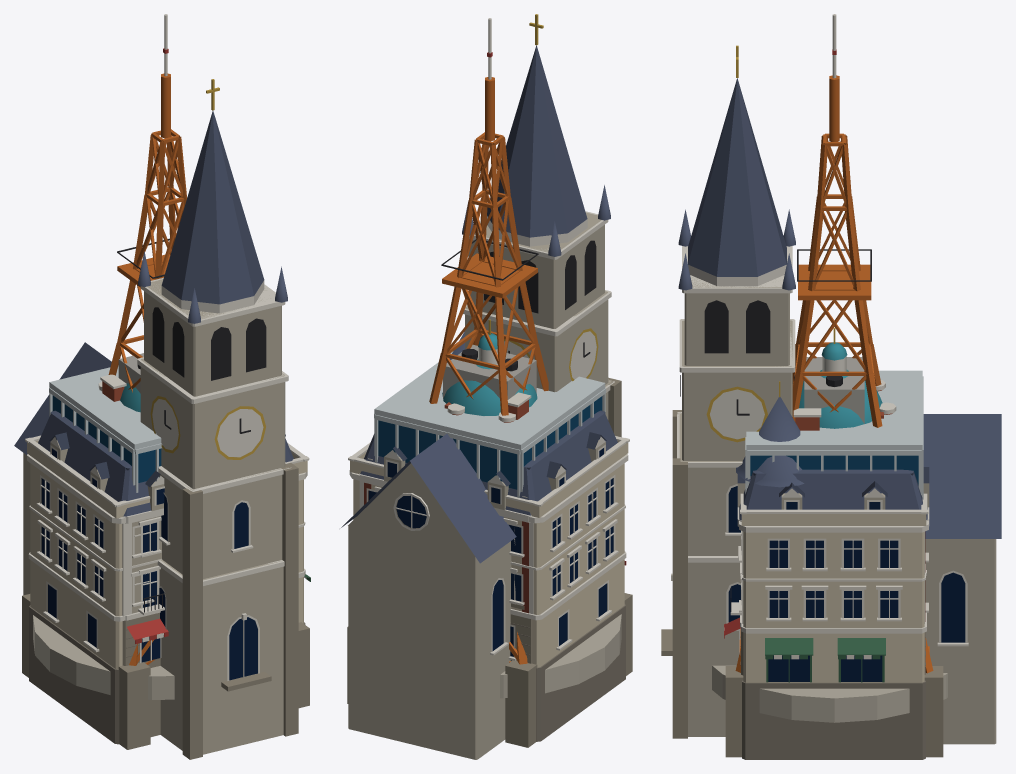
File: town-kit.glb
3 views of the same model, side by side, from view 1: azimuth 30°, elevation 25°; view 2: azimuth 150°, elevation 25°; view 3: azimuth 270°, elevation 25° (orthographic). The views are drawn at different scales.
Visible parts, largest first — view 1: Kit_ClockTower, Kit_FlatBlock, Kit_LatticeTower, Kit_SlateBlock, Kit_GlassBlock, Kit_Fountain; view 2: Kit_ClockTower, Kit_FlatBlock, Kit_LatticeTower, Kit_GlassBlock, Kit_SlateBlock, Kit_Fountain, Kit_DomeTower, Kit_BrickWorks; view 3: Kit_ClockTower, Kit_FlatBlock, Kit_LatticeTower, Kit_GlassBlock, Kit_SlateBlock, Kit_Fountain, Kit_TurretCorner, Kit_DomeTower.
Boxes of the visible parts, x1,y1,x2,y2 form: Kit_ClockTower: [14, 79, 298, 759]; Kit_FlatBlock: [25, 435, 310, 744]; Kit_LatticeTower: [22, 14, 309, 749]; Kit_SlateBlock: [38, 374, 298, 736]; Kit_GlassBlock: [49, 353, 162, 492]; Kit_Fountain: [33, 615, 174, 699]; Kit_ClockTower: [341, 14, 621, 759]; Kit_FlatBlock: [348, 436, 629, 741]; Kit_LatticeTower: [347, 18, 632, 747]; Kit_GlassBlock: [374, 344, 605, 497]; Kit_SlateBlock: [359, 392, 617, 663]; Kit_Fountain: [500, 614, 621, 698]; Kit_DomeTower: [442, 319, 537, 415]; Kit_BrickWorks: [364, 458, 528, 613]; Kit_ClockTower: [661, 45, 1001, 744]; Kit_FlatBlock: [724, 493, 928, 759]; Kit_LatticeTower: [725, 14, 943, 757]; Kit_GlassBlock: [745, 357, 923, 499]; Kit_SlateBlock: [730, 408, 929, 675]; Kit_Fountain: [712, 665, 947, 722]; Kit_TurretCorner: [736, 380, 896, 487]; Kit_DomeTower: [799, 328, 882, 428].
Size of the model in its own units: 16 by 44.5 by 19.7.
